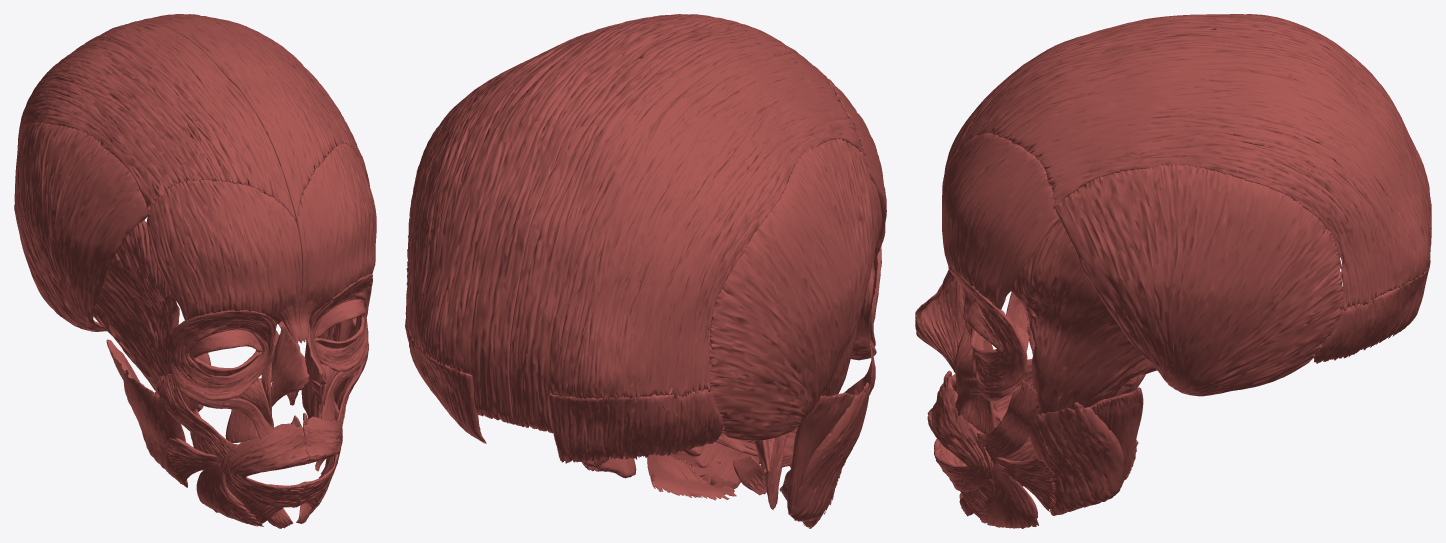
File: head.glb
3 renders of one model, left to right at view 1: azimuth 30°, elevation 25°; view 2: azimuth 150°, elevation 25°; view 3: azimuth 270°, elevation 25°, orthographic. The views are drawn at different scales.
Visible parts, largest first — view 1: FMA46768, FMA46763, FMA46759, FMA46760, FMA49007, FMA46841, FMA46785, FMA49004, FMA46786, FMA46812, FMA55606, FMA46829 (+15 smaller); view 2: FMA46768, FMA46763, FMA46761, FMA49004, FMA46762, FMA49001, FMA46830, FMA46818, FMA46759, FMA49012, FMA46785, FMA49007 (+3 smaller); view 3: FMA46768, FMA46764, FMA49008, FMA46760, FMA49005, FMA46762, FMA46841, FMA46786, FMA55607, FMA46813, FMA46830, FMA49002 (+6 smaller).
Boxes of the visible parts, left/top/right/bottom form: FMA46768: left=14, top=14, right=360, bottom=219; FMA46763: left=15, top=122, right=148, bottom=331; FMA46759: left=146, top=179, right=302, bottom=323; FMA46760: left=295, top=143, right=376, bottom=315; FMA49007: left=92, top=220, right=189, bottom=407; FMA46841: left=221, top=416, right=342, bottom=507; FMA46785: left=167, top=310, right=276, bottom=400; FMA49004: left=123, top=369, right=187, bottom=487; FMA46786: left=309, top=274, right=372, bottom=371; FMA46812: left=156, top=373, right=238, bottom=463; FMA55606: left=271, top=326, right=309, bottom=406; FMA46829: left=196, top=461, right=263, bottom=526; FMA46768: left=405, top=14, right=866, bottom=433; FMA46763: left=709, top=138, right=877, bottom=441; FMA46761: left=549, top=389, right=722, bottom=463; FMA49004: left=790, top=382, right=870, bottom=521; FMA46762: left=405, top=319, right=486, bottom=443; FMA49001: left=787, top=392, right=856, bottom=521; FMA46830: left=647, top=453, right=736, bottom=500; FMA46818: left=670, top=441, right=760, bottom=488; FMA46759: left=824, top=75, right=886, bottom=253; FMA49012: left=754, top=433, right=786, bottom=509; FMA46785: left=854, top=245, right=881, bottom=346; FMA49007: left=821, top=180, right=882, bottom=396; FMA46768: left=957, top=14, right=1431, bottom=311; FMA46764: left=1055, top=164, right=1343, bottom=396; FMA49008: left=1010, top=221, right=1156, bottom=414; FMA46760: left=942, top=133, right=1059, bottom=309; FMA49005: left=1028, top=402, right=1123, bottom=515; FMA46762: left=1314, top=260, right=1430, bottom=363; FMA46841: left=927, top=374, right=994, bottom=491; FMA46786: left=948, top=267, right=1027, bottom=392; FMA55607: left=915, top=278, right=965, bottom=373; FMA46813: left=976, top=380, right=1039, bottom=464; FMA46830: left=979, top=462, right=1038, bottom=528; FMA49002: left=1085, top=387, right=1143, bottom=489.
Size of the model in its own units: 0.1557 by 0.2032 by 0.1988.
